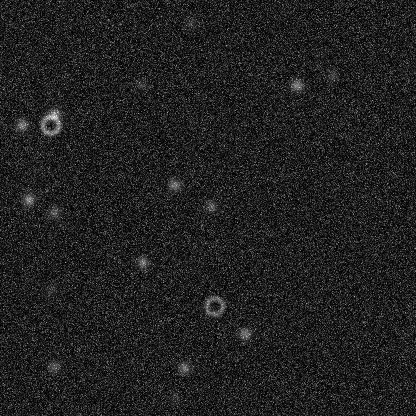Ring: (38, 112, 62, 136), (202, 294, 226, 318)
Spot: (13, 116, 29, 132), (43, 282, 59, 298), (20, 191, 36, 207), (45, 358, 61, 374), (166, 390, 182, 406), (182, 14, 198, 30), (236, 325, 252, 341), (46, 204, 62, 220), (288, 77, 304, 93), (203, 198, 219, 214), (134, 254, 150, 270), (166, 176, 182, 192), (46, 105, 62, 121), (324, 67, 340, 83), (175, 359, 191, 375), (133, 76, 149, 92)
